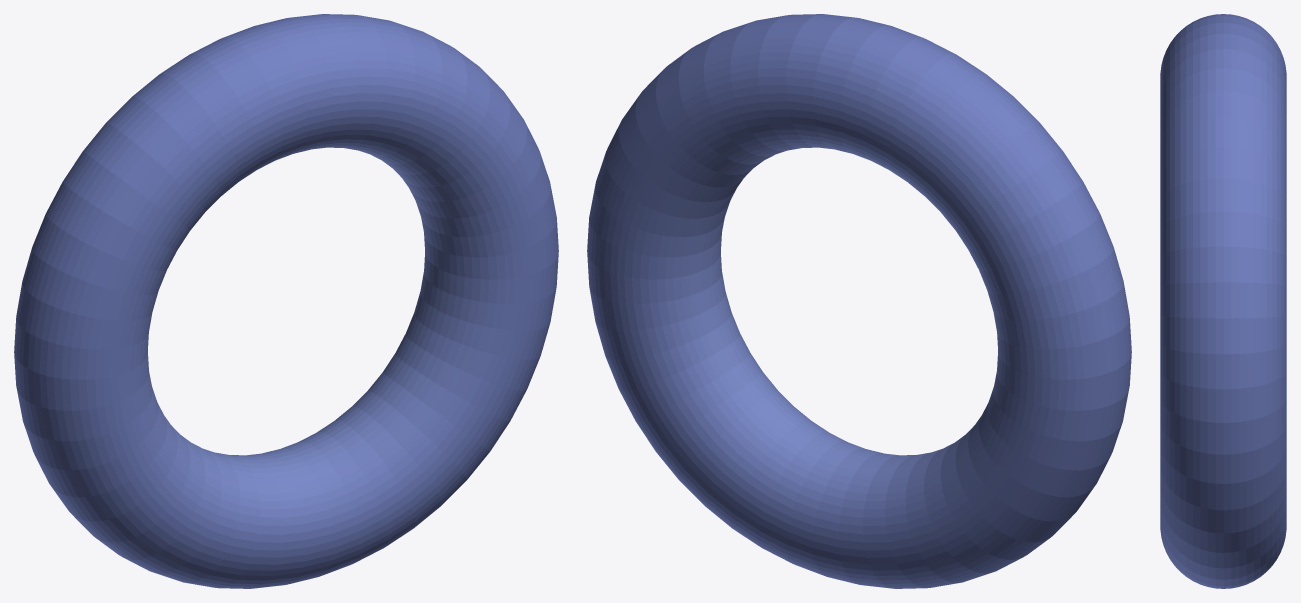
The picture shows the model from 3 angles, left to right: view 1: azimuth 30°, elevation 25°; view 2: azimuth 150°, elevation 25°; view 3: azimuth 270°, elevation 25°; orthographic projection. The views are drawn at different scales.
Parts seen in each view (by area): view 1: world; view 2: world; view 3: world.
Part boxes in pixels (box(x1,y1,x2,y2)): world: box(14, 14, 558, 588); world: box(587, 14, 1131, 588); world: box(1160, 14, 1286, 588).
Bounding box in the file's own units: 18.8 × 18.76 × 4.13.
